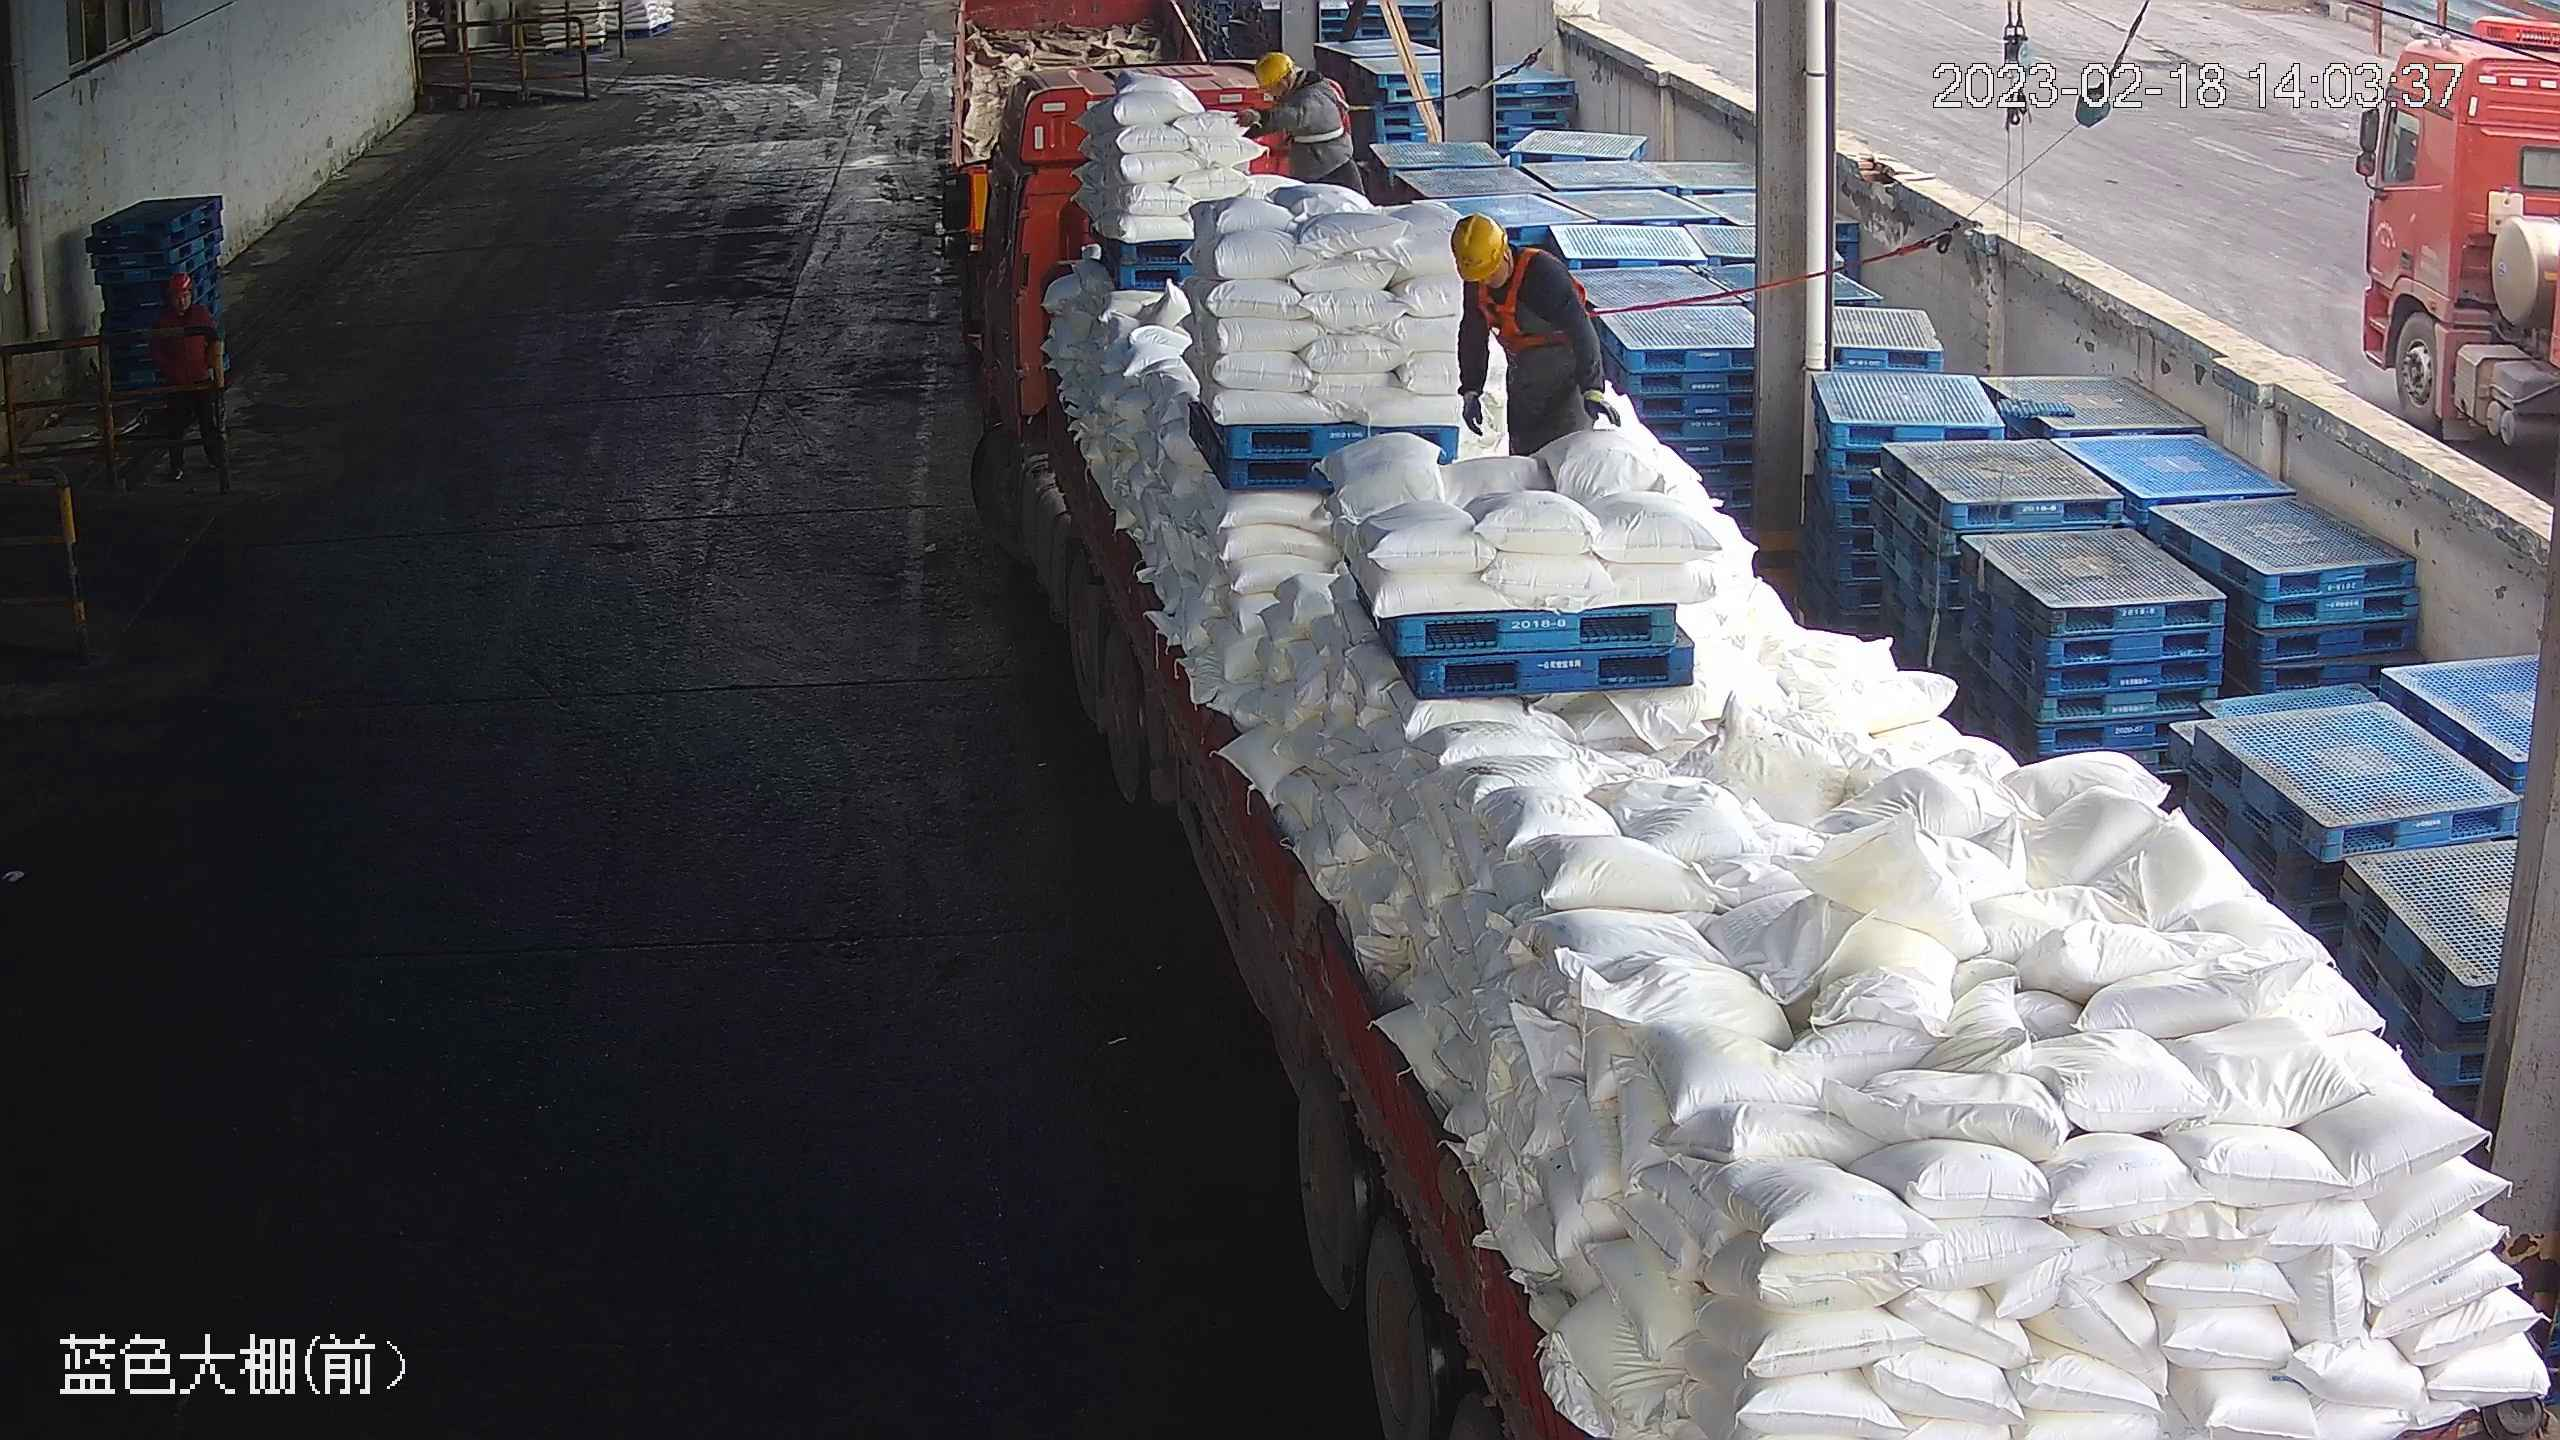belt: (1479, 244, 1576, 351), (1290, 75, 1357, 148)
head: (1447, 211, 1565, 306), (1251, 50, 1344, 128), (158, 270, 216, 331)
helmet: (1447, 211, 1510, 280), (1252, 49, 1296, 91), (167, 270, 198, 295)
people: (1444, 213, 1617, 473), (1237, 48, 1361, 201), (152, 265, 231, 495)
truck: (967, 147, 2558, 1437), (926, 1, 1238, 155)
